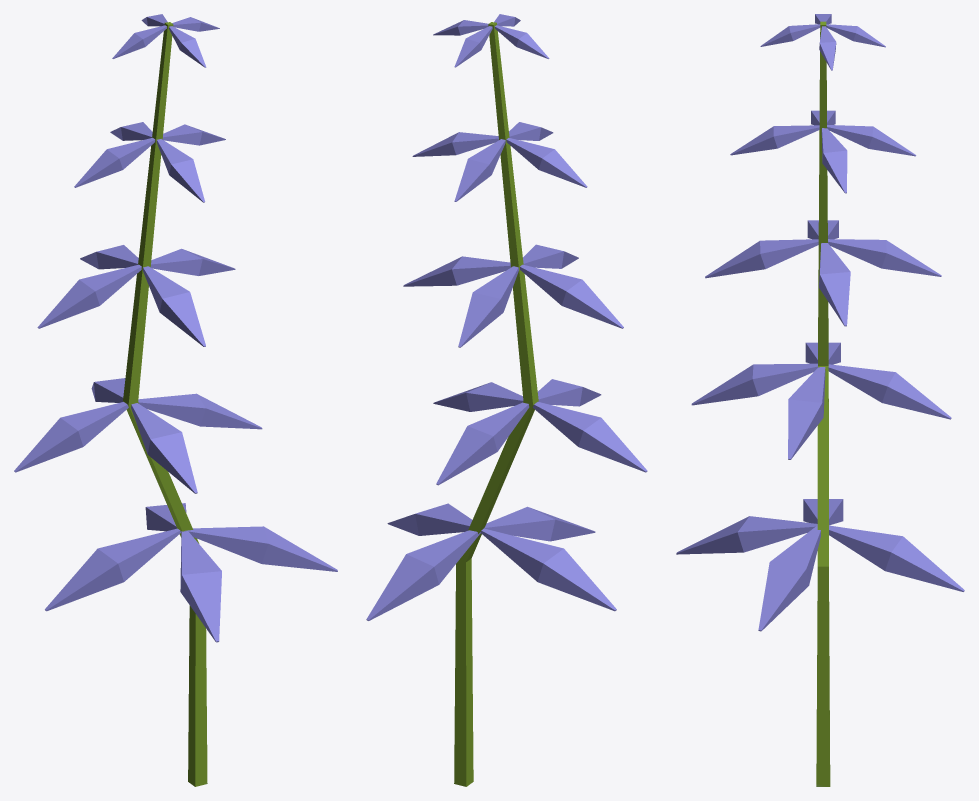
The model's file is Flower_33.fbx.
3 views of the same model, side by side, from view 1: azimuth 30°, elevation 25°; view 2: azimuth 150°, elevation 25°; view 3: azimuth 270°, elevation 25° (orthographic). The views are drawn at different scales.
Visible parts, largest first — view 1: Flower_33; view 2: Flower_33; view 3: Flower_33.
Boxes of the visible parts, x1=… form: Flower_33: x1=14, y1=14, x2=337, y2=786; Flower_33: x1=366, y1=14, x2=647, y2=786; Flower_33: x1=676, y1=14, x2=964, y2=786.
Size of the model in its own units: 53.15 by 134 by 46.83.
